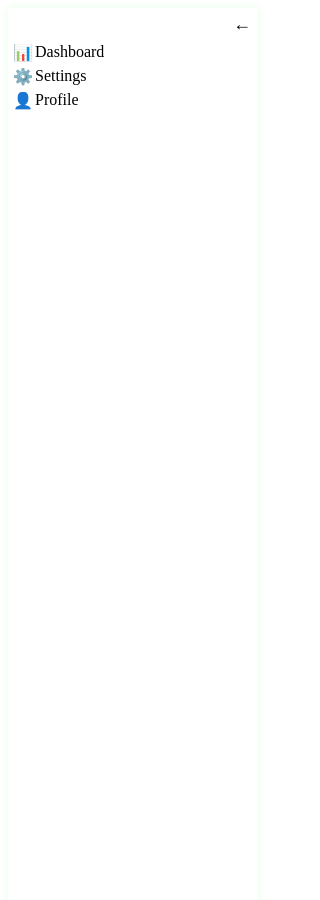
it: Sidebar Component › toggles collapse state
This screenshot has width=320, height=900.
Click the button named "Collapse sidebar". click: x=242, y=24
box: [226,8,258,40]
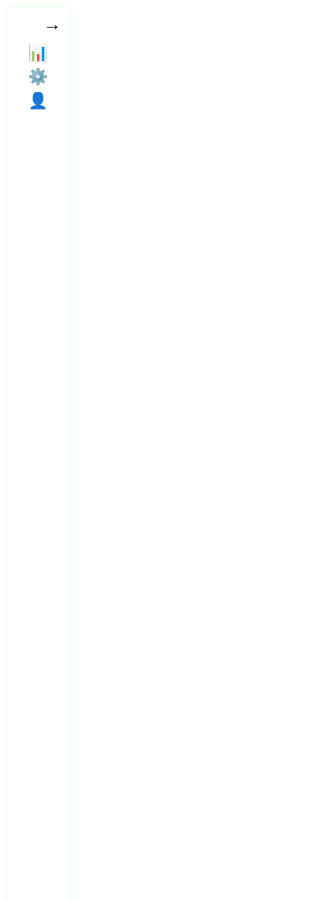
Result: the button named "Expand sidebar" is shown at [36,8,68,40]
